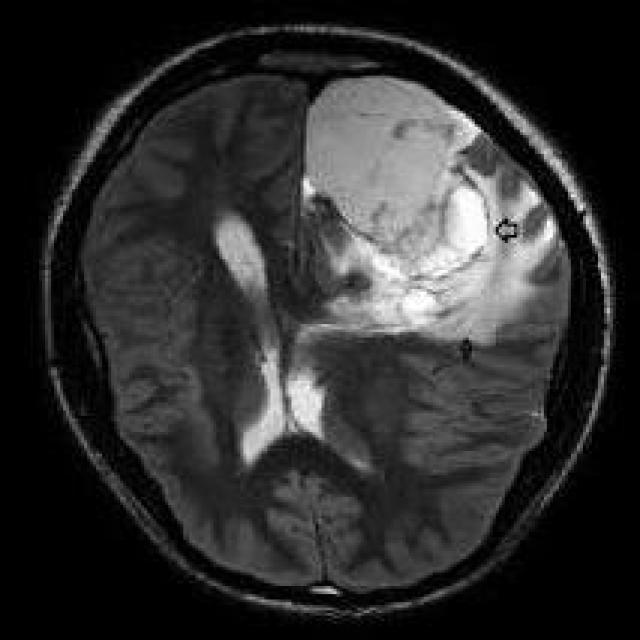Tumor-Cell: (284, 80, 548, 338)
